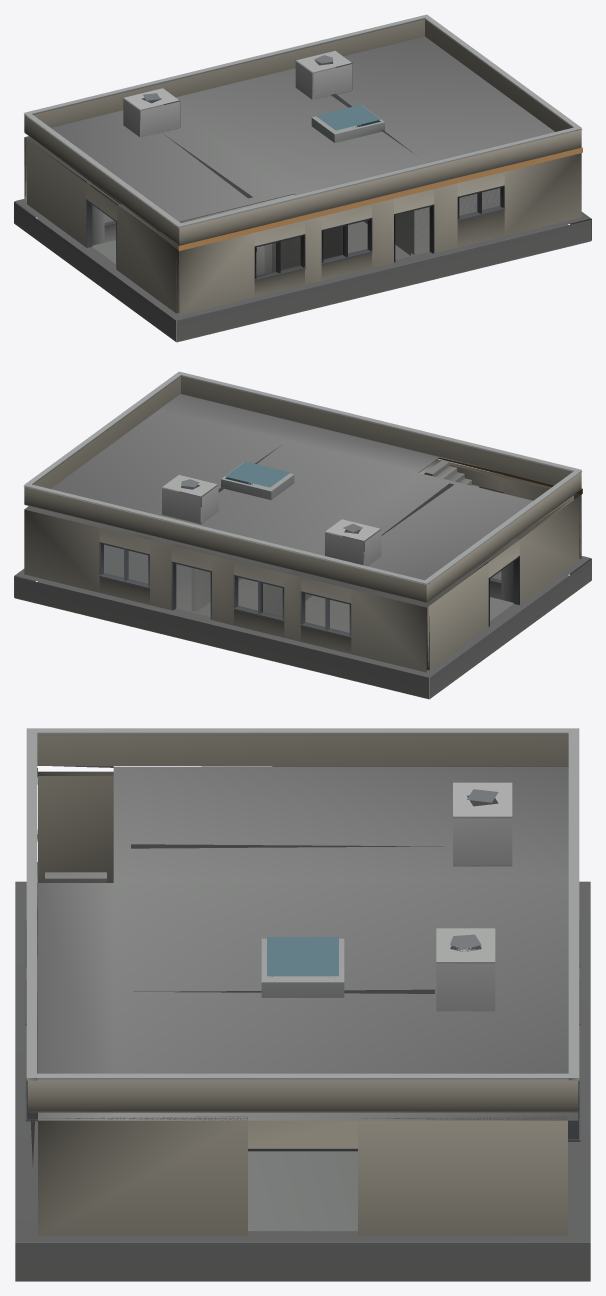
File: lab_low.lod.glb
The picture shows the model from 3 angles, top to bottom: view 1: azimuth 30°, elevation 25°; view 2: azimuth 150°, elevation 25°; view 3: azimuth 270°, elevation 25°; orthographic projection. The views are drawn at different scales.
Visible parts, largest first — view 1: lab_low; view 2: lab_low; view 3: lab_low.
Boxes of the visible parts, left/top/right/bottom form: lab_low: left=14, top=14, right=591, bottom=342; lab_low: left=14, top=371, right=591, bottom=699; lab_low: left=15, top=728, right=590, bottom=1281.
Size of the model in its own units: 24.8 by 7.02 by 16.8.
